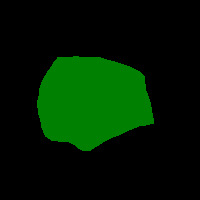mutande: (37, 56, 154, 151)
